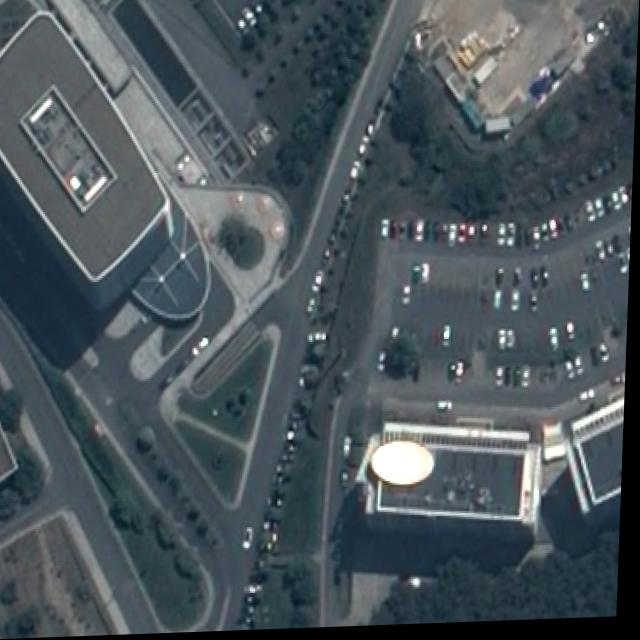Batiment: (0, 14, 168, 279), (370, 426, 539, 527), (575, 401, 628, 511)
